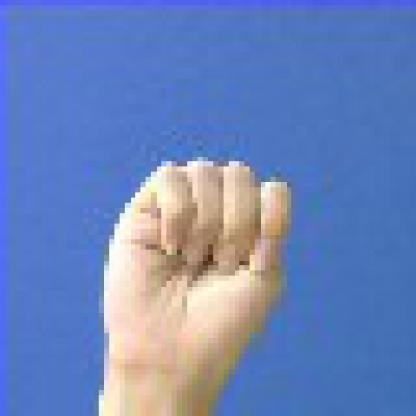zero: (73, 109, 338, 395)
